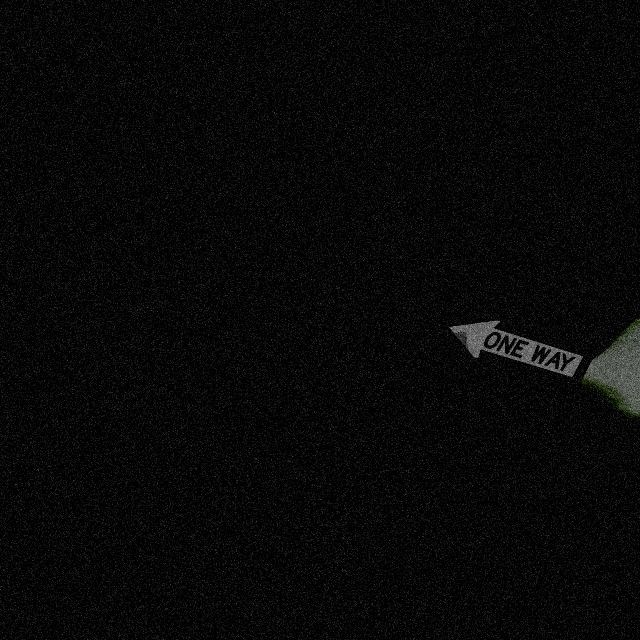ONE_WAY_ left: (423, 303, 597, 391)
